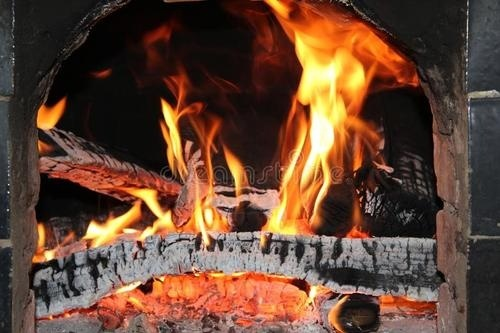fire: (28, 79, 244, 253), (265, 5, 405, 233)
